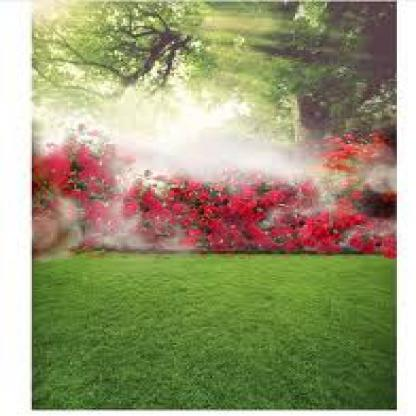Rose-Mawar: (35, 142, 408, 245)
